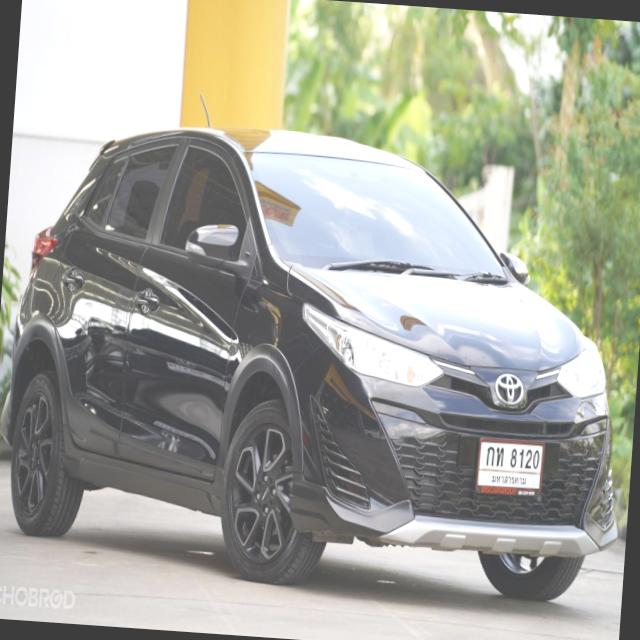license_plate: (473, 436, 548, 498)
